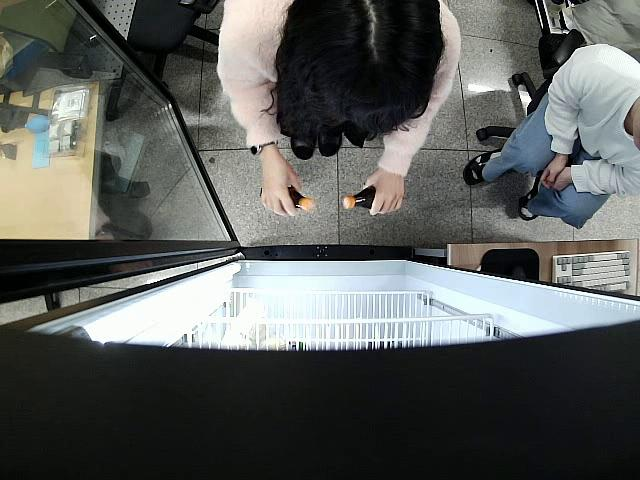00_hand: (261, 164, 302, 219), (364, 174, 404, 216)
17_vita500: (261, 186, 314, 216), (343, 187, 381, 209)
